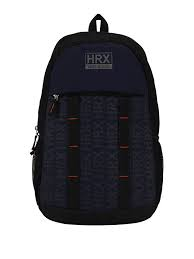backpack: (30, 13, 163, 225)
